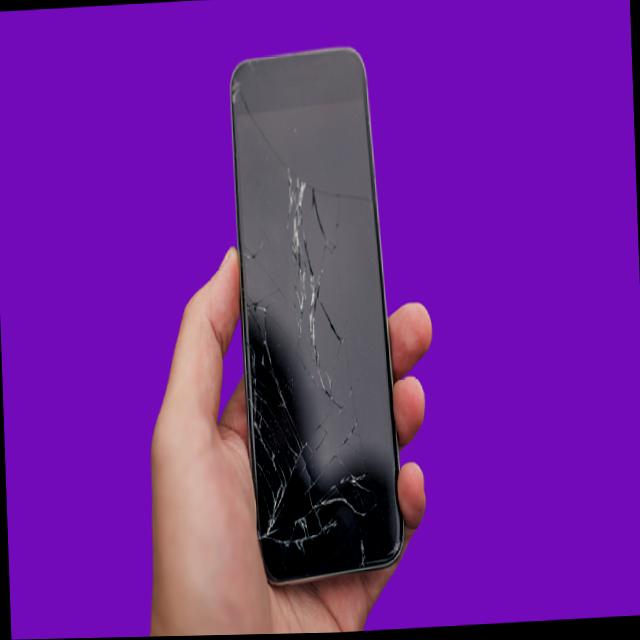Smartphone: (228, 33, 407, 588)
